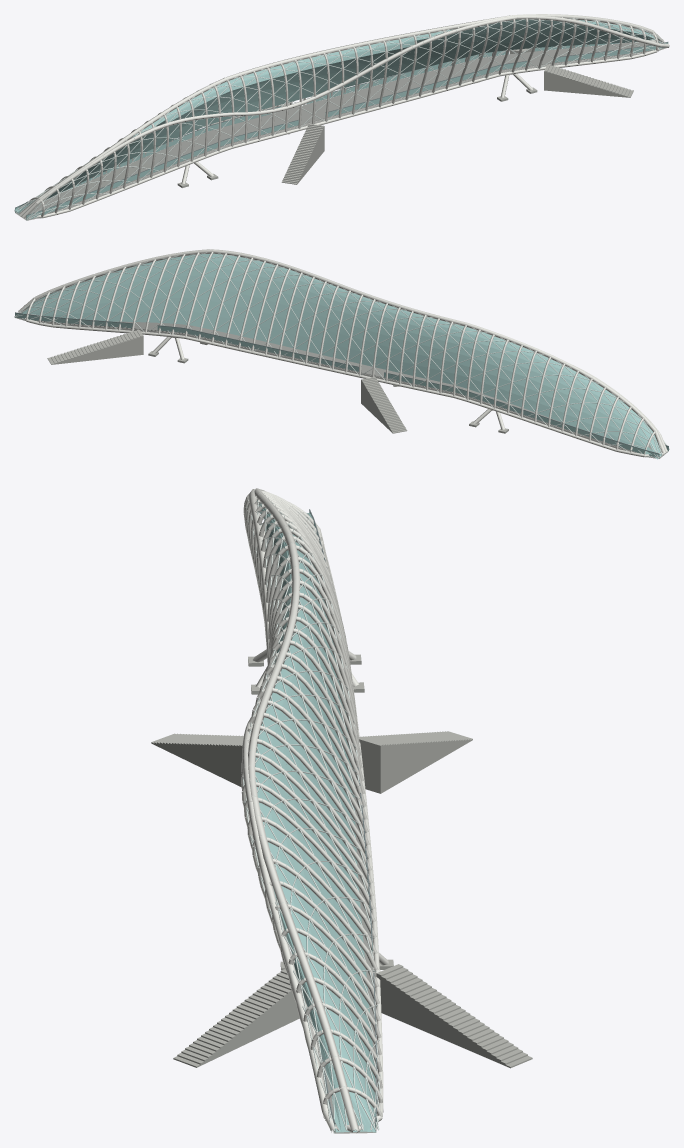
Rendered from bridge-of-peace-tbilisi-near.glb.
The picture shows the model from 3 angles, top to bottom: view 1: azimuth 30°, elevation 25°; view 2: azimuth 150°, elevation 25°; view 3: azimuth 270°, elevation 25°; orthographic projection. The views are drawn at different scales.
Visible parts, largest first — view 1: bridge-of-peace-tbilisi-0-glass, bridge-of-peace-tbilisi-0-steel, bridge-of-peace-tbilisi-0-tube, bridge-of-peace-tbilisi-0-walk, bridge-of-peace-tbilisi-0-glow, bridge-of-peace-tbilisi-0-stair, bridge-of-peace-tbilisi-0-deck, bridge-of-peace-tbilisi-0-rail; view 2: bridge-of-peace-tbilisi-0-glass, bridge-of-peace-tbilisi-0-steel, bridge-of-peace-tbilisi-0-glow, bridge-of-peace-tbilisi-0-tube, bridge-of-peace-tbilisi-0-stair, bridge-of-peace-tbilisi-0-walk, bridge-of-peace-tbilisi-0-deck, bridge-of-peace-tbilisi-0-rail; view 3: bridge-of-peace-tbilisi-0-steel, bridge-of-peace-tbilisi-0-glass, bridge-of-peace-tbilisi-0-stair, bridge-of-peace-tbilisi-0-tube, bridge-of-peace-tbilisi-0-glow, bridge-of-peace-tbilisi-0-walk.
Part boxes in pixels (box(x1,y1,x2,y2)): bridge-of-peace-tbilisi-0-glass: box(14, 19, 668, 220); bridge-of-peace-tbilisi-0-steel: box(27, 17, 658, 217); bridge-of-peace-tbilisi-0-tube: box(19, 14, 669, 218); bridge-of-peace-tbilisi-0-walk: box(15, 42, 666, 220); bridge-of-peace-tbilisi-0-glow: box(14, 18, 669, 219); bridge-of-peace-tbilisi-0-stair: box(177, 48, 633, 187); bridge-of-peace-tbilisi-0-deck: box(27, 48, 666, 220); bridge-of-peace-tbilisi-0-rail: box(15, 42, 667, 215); bridge-of-peace-tbilisi-0-glass: box(15, 253, 668, 459); bridge-of-peace-tbilisi-0-steel: box(25, 251, 655, 455); bridge-of-peace-tbilisi-0-glow: box(14, 252, 669, 458); bridge-of-peace-tbilisi-0-tube: box(18, 249, 667, 457); bridge-of-peace-tbilisi-0-stair: box(47, 329, 508, 433); bridge-of-peace-tbilisi-0-walk: box(15, 317, 668, 458); bridge-of-peace-tbilisi-0-deck: box(16, 318, 658, 458); bridge-of-peace-tbilisi-0-rail: box(15, 305, 668, 453); bridge-of-peace-tbilisi-0-steel: box(241, 490, 388, 1118); bridge-of-peace-tbilisi-0-glass: box(250, 500, 376, 1132); bridge-of-peace-tbilisi-0-stair: box(151, 654, 532, 1068); bridge-of-peace-tbilisi-0-tube: box(242, 488, 383, 1133); bridge-of-peace-tbilisi-0-glow: box(242, 493, 380, 1130); bridge-of-peace-tbilisi-0-walk: box(268, 538, 376, 1133).
Bounding box in the file's own units: 150 × 20.66 × 39.2.
